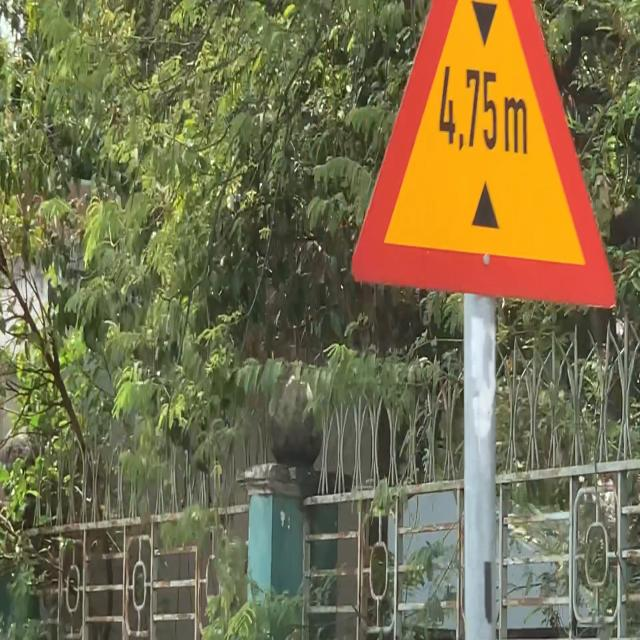Nguy hiem: (348, 0, 621, 314)
